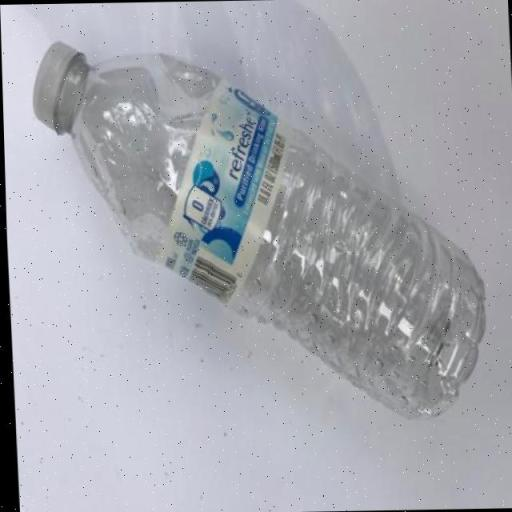plastic: (25, 28, 492, 431)
